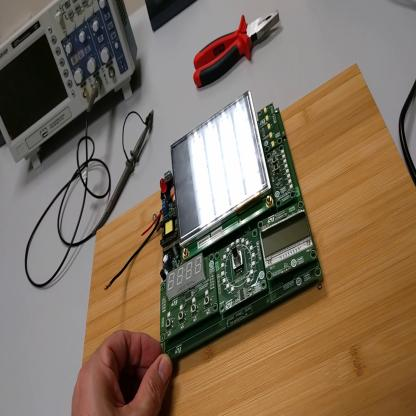hand: (71, 329, 174, 416)
low voltage board: (106, 91, 325, 363)
oscilloscope: (1, 3, 139, 171)
oscilloscope probe tip: (94, 125, 149, 235)
pliers: (193, 7, 282, 82)
working area: (84, 65, 416, 416)
